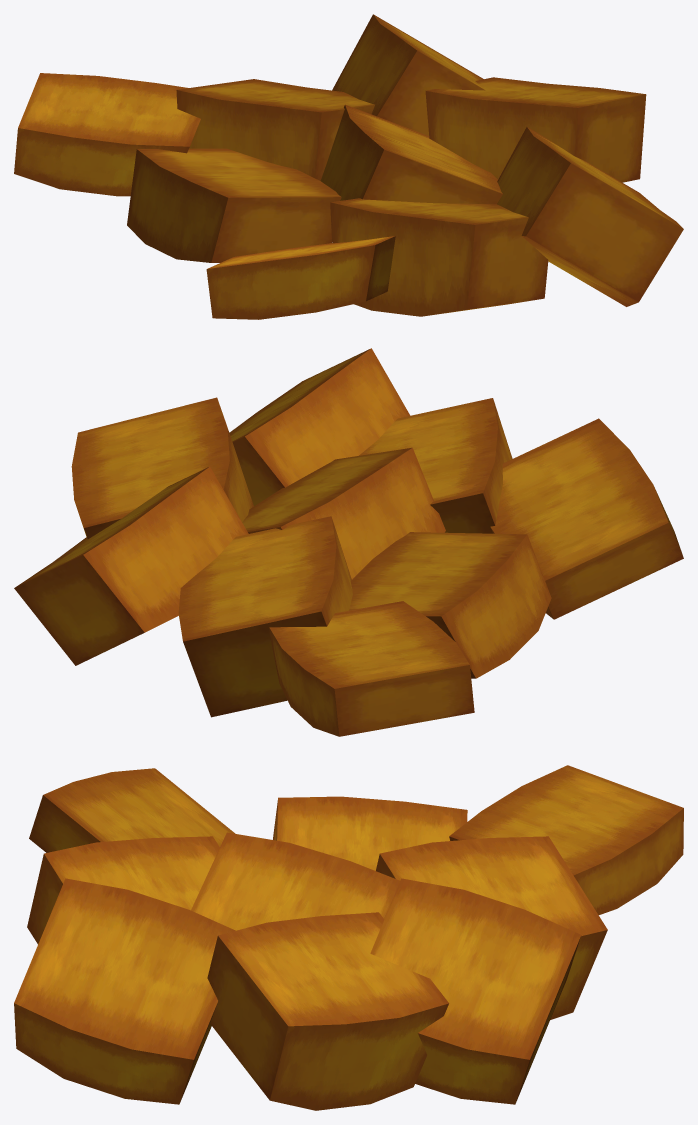
The model's file is Potato_Cooked.fbx.
3 renders of one model, top to bottom at view 1: azimuth 30°, elevation 25°; view 2: azimuth 150°, elevation 25°; view 3: azimuth 270°, elevation 25°, orthographic. The views are drawn at different scales.
Parts seen in each view (by area): view 1: Potato_Cooked; view 2: Potato_Cooked; view 3: Potato_Cooked.
Boxes of the visible parts, x1,y1,x2,y2 form: Potato_Cooked: [14, 14, 683, 319]; Potato_Cooked: [14, 348, 683, 736]; Potato_Cooked: [14, 765, 683, 1110].
Bounding box in the file's own units: 0.7742 × 0.2493 × 0.814.
Materials: 1 (1 with a texture image).
